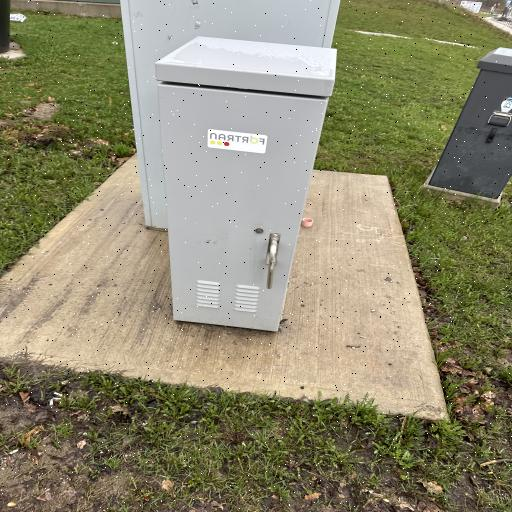Electrical Box: (117, 0, 345, 333)
